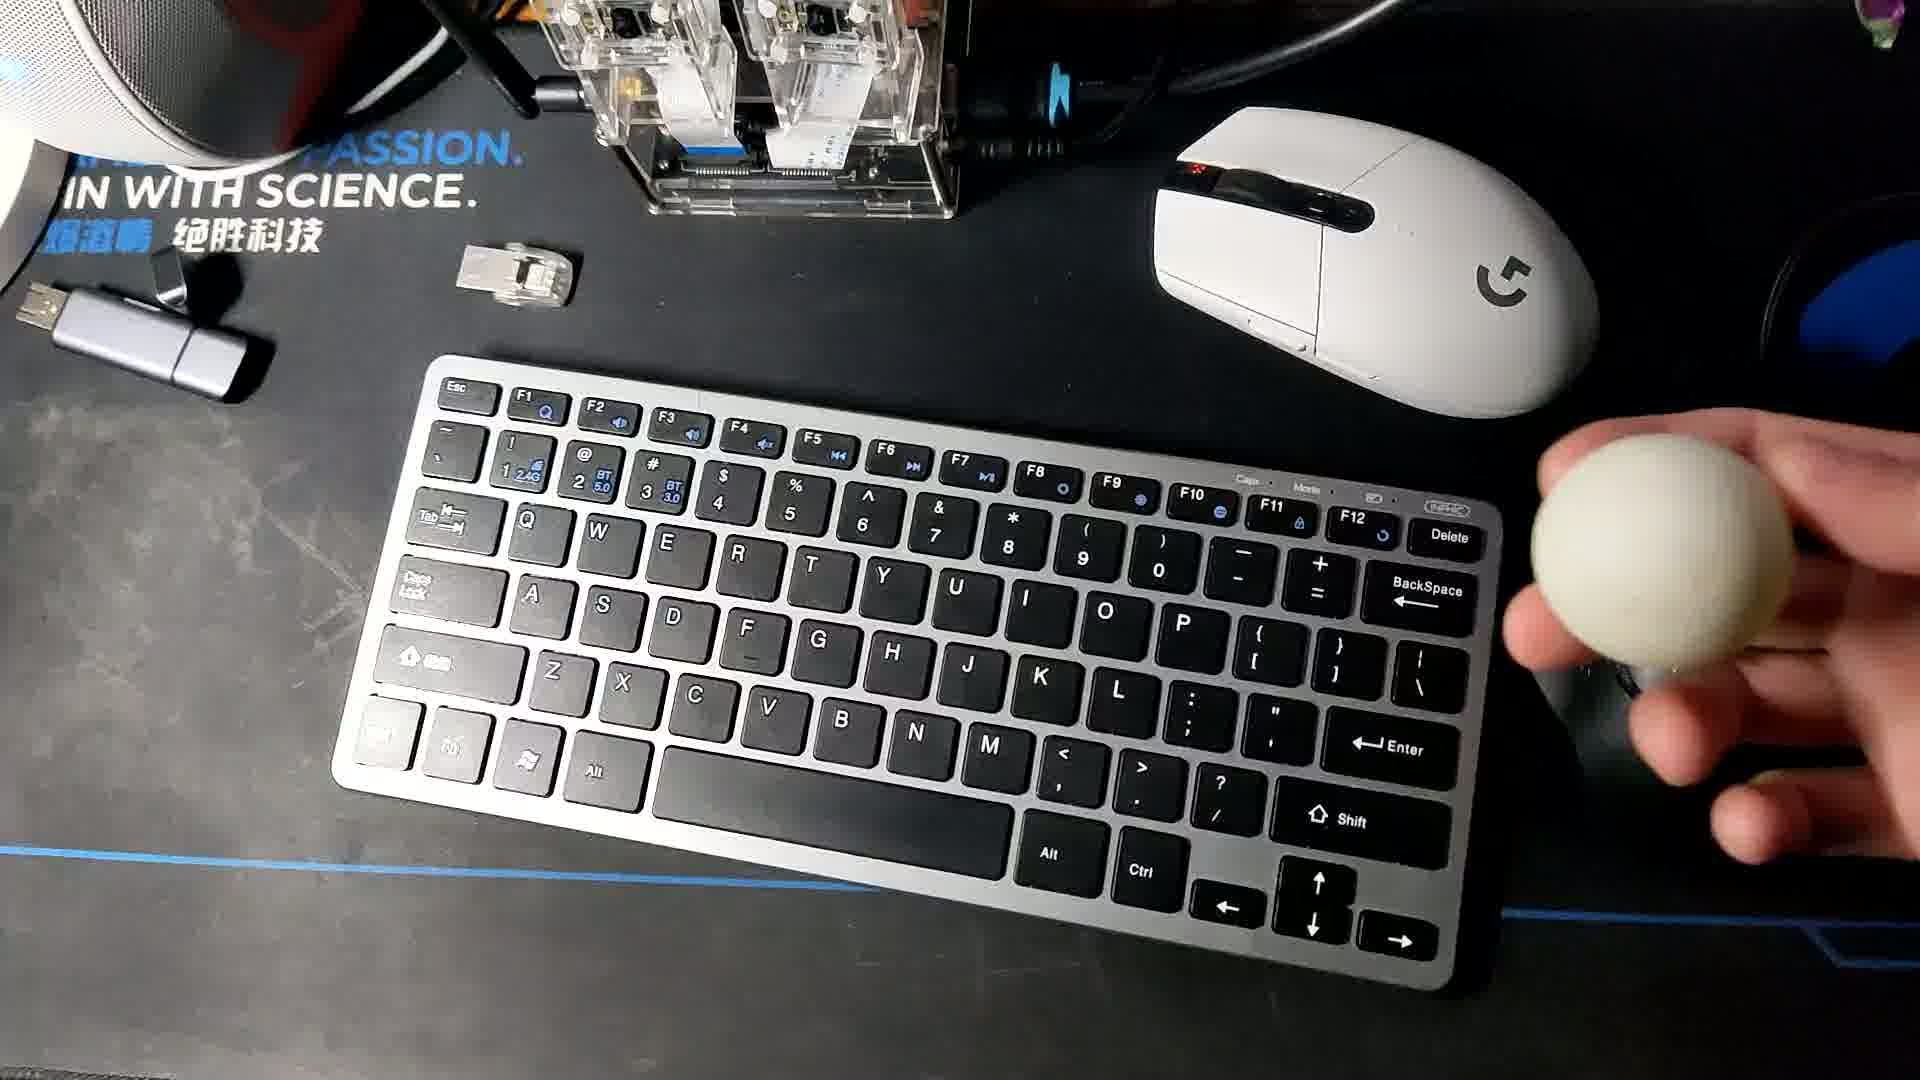Ball: (1532, 429, 1797, 670)
